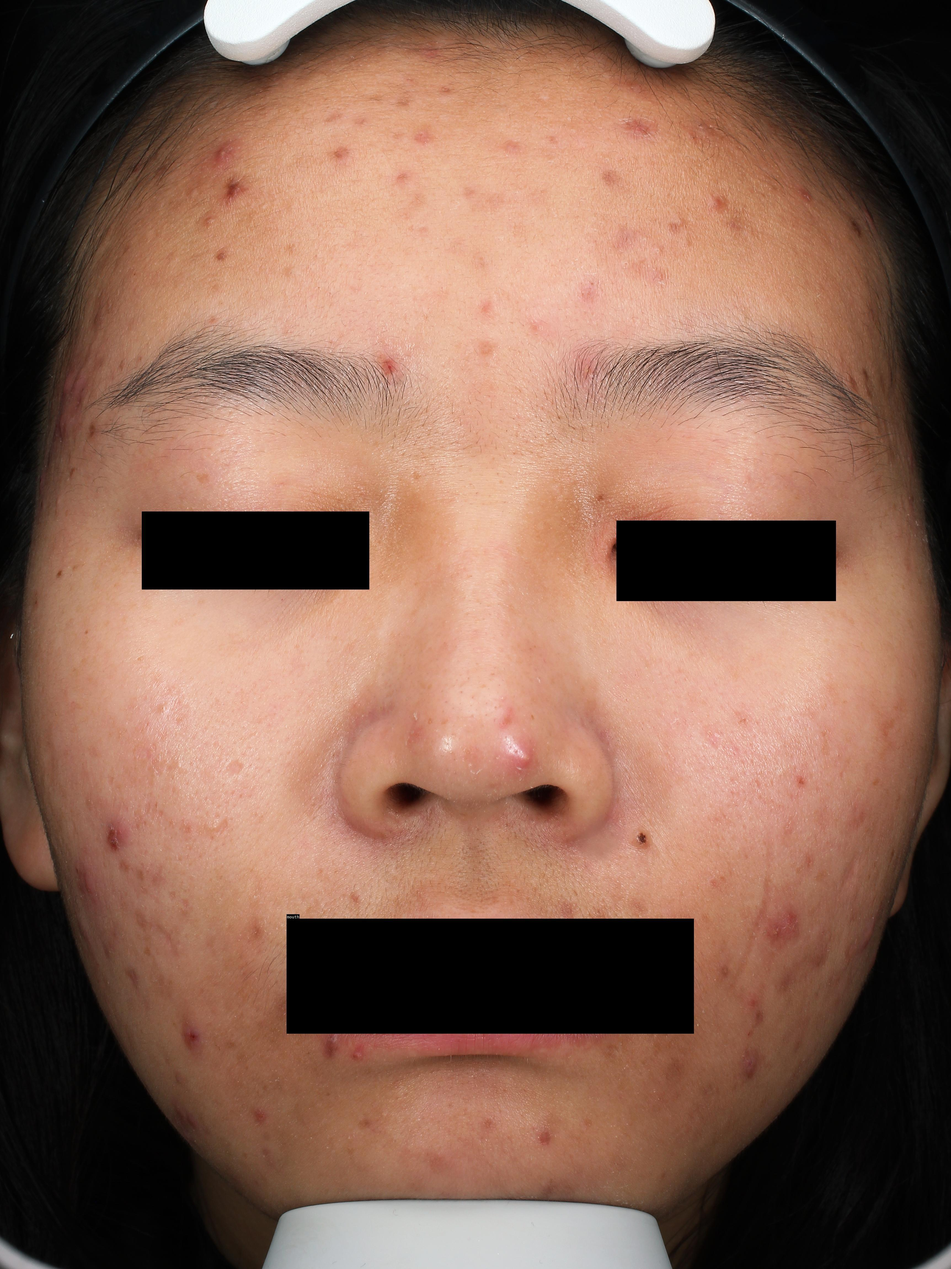atrophic_scar: (840, 852, 860, 893), (212, 816, 231, 840), (225, 757, 246, 776), (125, 968, 140, 988), (108, 767, 115, 789), (179, 899, 191, 910), (164, 932, 172, 948), (143, 801, 151, 814), (133, 806, 141, 819), (350, 894, 359, 905), (168, 891, 177, 901), (157, 809, 164, 817), (84, 629, 88, 635)
closed_comedo: (680, 237, 692, 248), (188, 187, 199, 199), (257, 202, 268, 212), (55, 497, 62, 508), (571, 126, 578, 134), (381, 1112, 387, 1118), (177, 762, 182, 767), (161, 706, 165, 710)
hypertrophic_scar: (537, 90, 551, 103)
melasma: (822, 608, 857, 626), (170, 615, 188, 630), (195, 473, 213, 485), (73, 602, 87, 616), (119, 613, 130, 627), (110, 562, 122, 574), (126, 601, 138, 612), (89, 423, 97, 438), (196, 598, 207, 608), (412, 471, 422, 482), (69, 468, 76, 480), (111, 582, 121, 590), (841, 579, 848, 586), (901, 584, 905, 590), (891, 574, 894, 577)
nevus: (635, 831, 648, 845), (56, 570, 63, 579)
nodule: (770, 907, 800, 942)
open_comedo: (674, 216, 688, 229), (285, 266, 298, 278), (652, 246, 664, 256), (621, 259, 631, 269)
other: (730, 831, 780, 995), (220, 175, 247, 207)
papule: (508, 740, 539, 770), (106, 821, 132, 848), (739, 1052, 761, 1079), (71, 365, 89, 397), (213, 141, 236, 166), (860, 923, 876, 954), (59, 371, 73, 400), (705, 195, 725, 213), (184, 1027, 202, 1046), (56, 411, 70, 434), (324, 1035, 339, 1055), (498, 711, 514, 729), (77, 919, 90, 941), (536, 1126, 551, 1144), (253, 1108, 268, 1123), (797, 188, 813, 202), (530, 319, 546, 332), (202, 214, 219, 226), (84, 875, 95, 893), (865, 209, 877, 225), (351, 1050, 363, 1062), (188, 1114, 197, 1130), (175, 1102, 185, 1116), (581, 365, 592, 376), (38, 473, 44, 493), (505, 142, 515, 152), (908, 452, 914, 462), (747, 998, 754, 1006)
